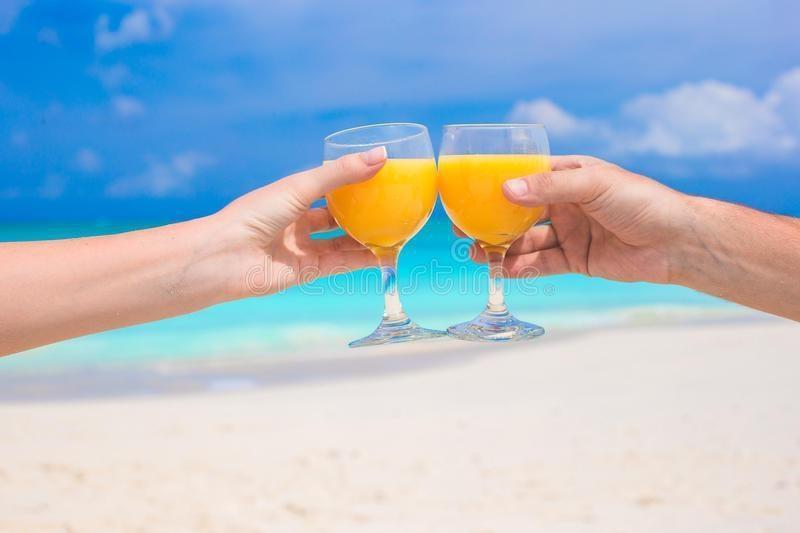glass-wine: (320, 124, 439, 348), (439, 118, 555, 343)
